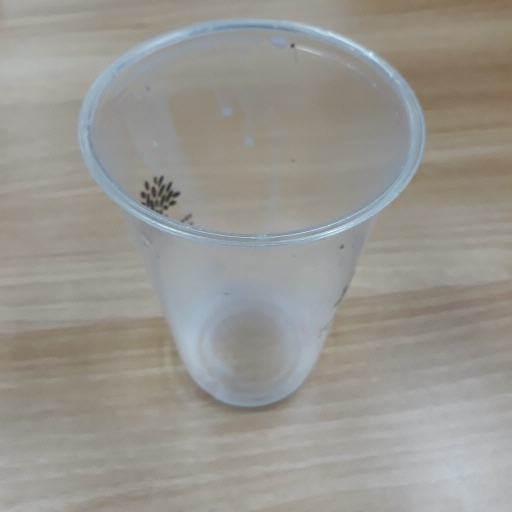Plastic_2: (71, 16, 430, 420)
